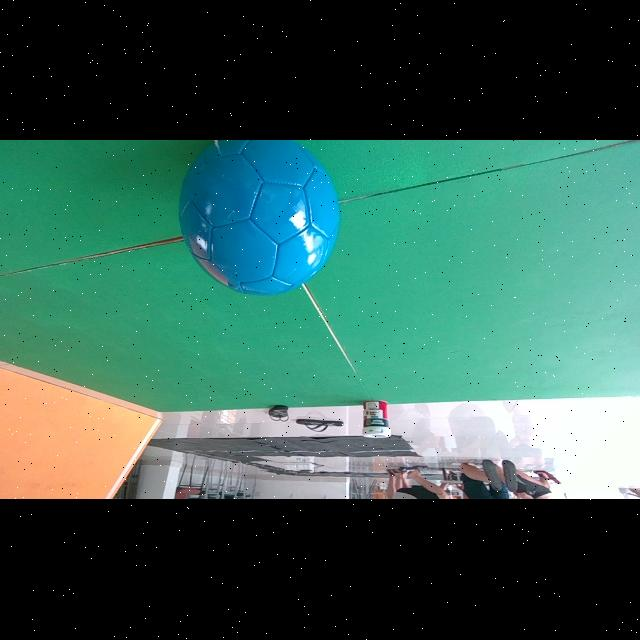B: (178, 140, 339, 296)
